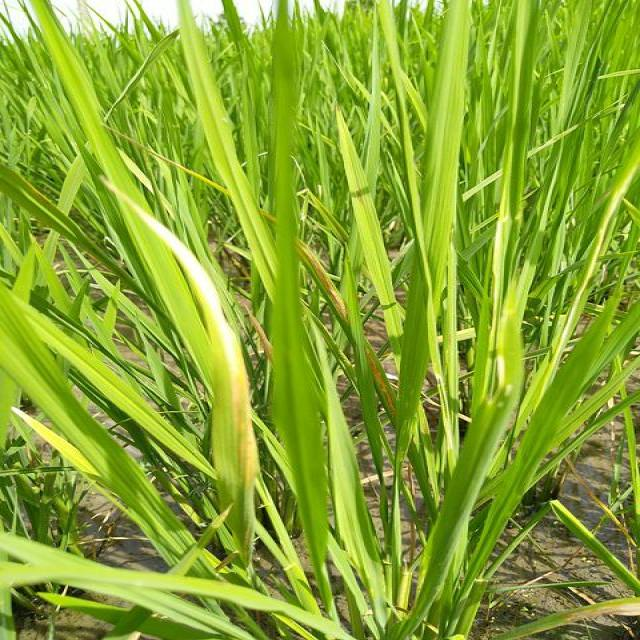Leaf Blight: (121, 197, 260, 563), (132, 141, 231, 197), (296, 239, 351, 333), (367, 344, 396, 424), (257, 210, 277, 223)
